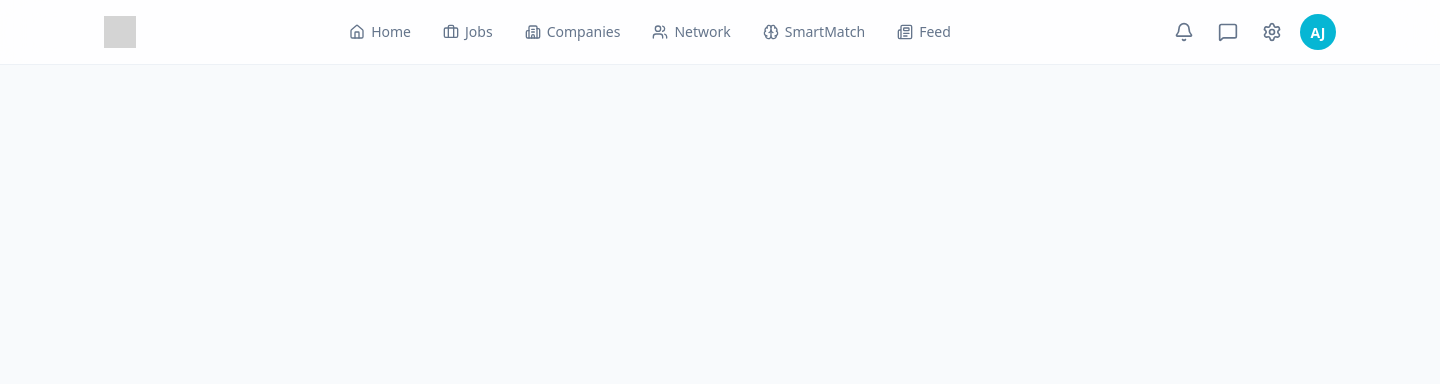
Test: Navbar — authenticated › opens dropdown with user name and email when avatar button is clicked
What coordinates should you click on to do the following:
click the button with aria-label "account menu"
I would click on:
 (1318, 32)
Its box is [1300, 14, 1336, 50].
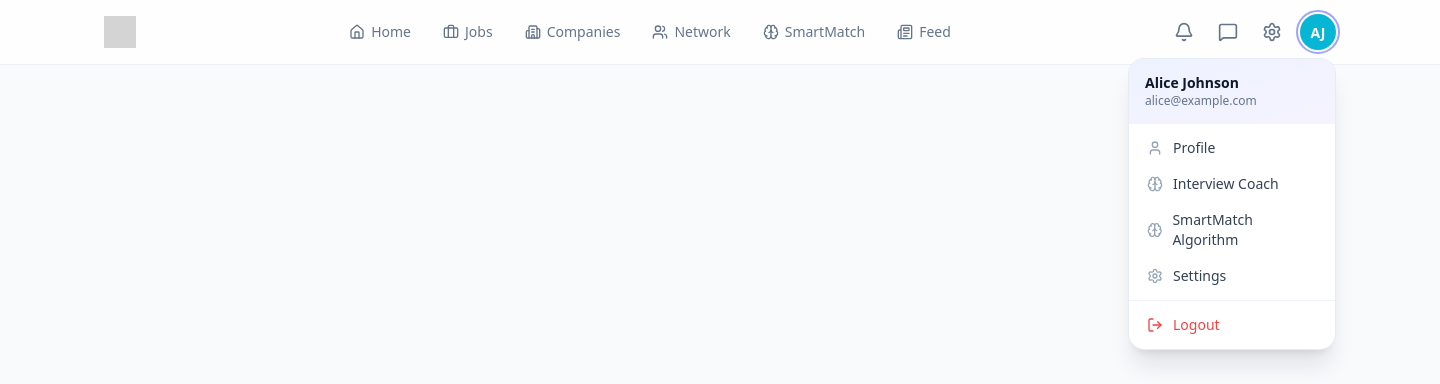
Expected: the text "Alice Johnson" is shown, [1145, 73, 1239, 92]
Expected: the text "alice@example.com" is shown, [1145, 92, 1257, 109]
